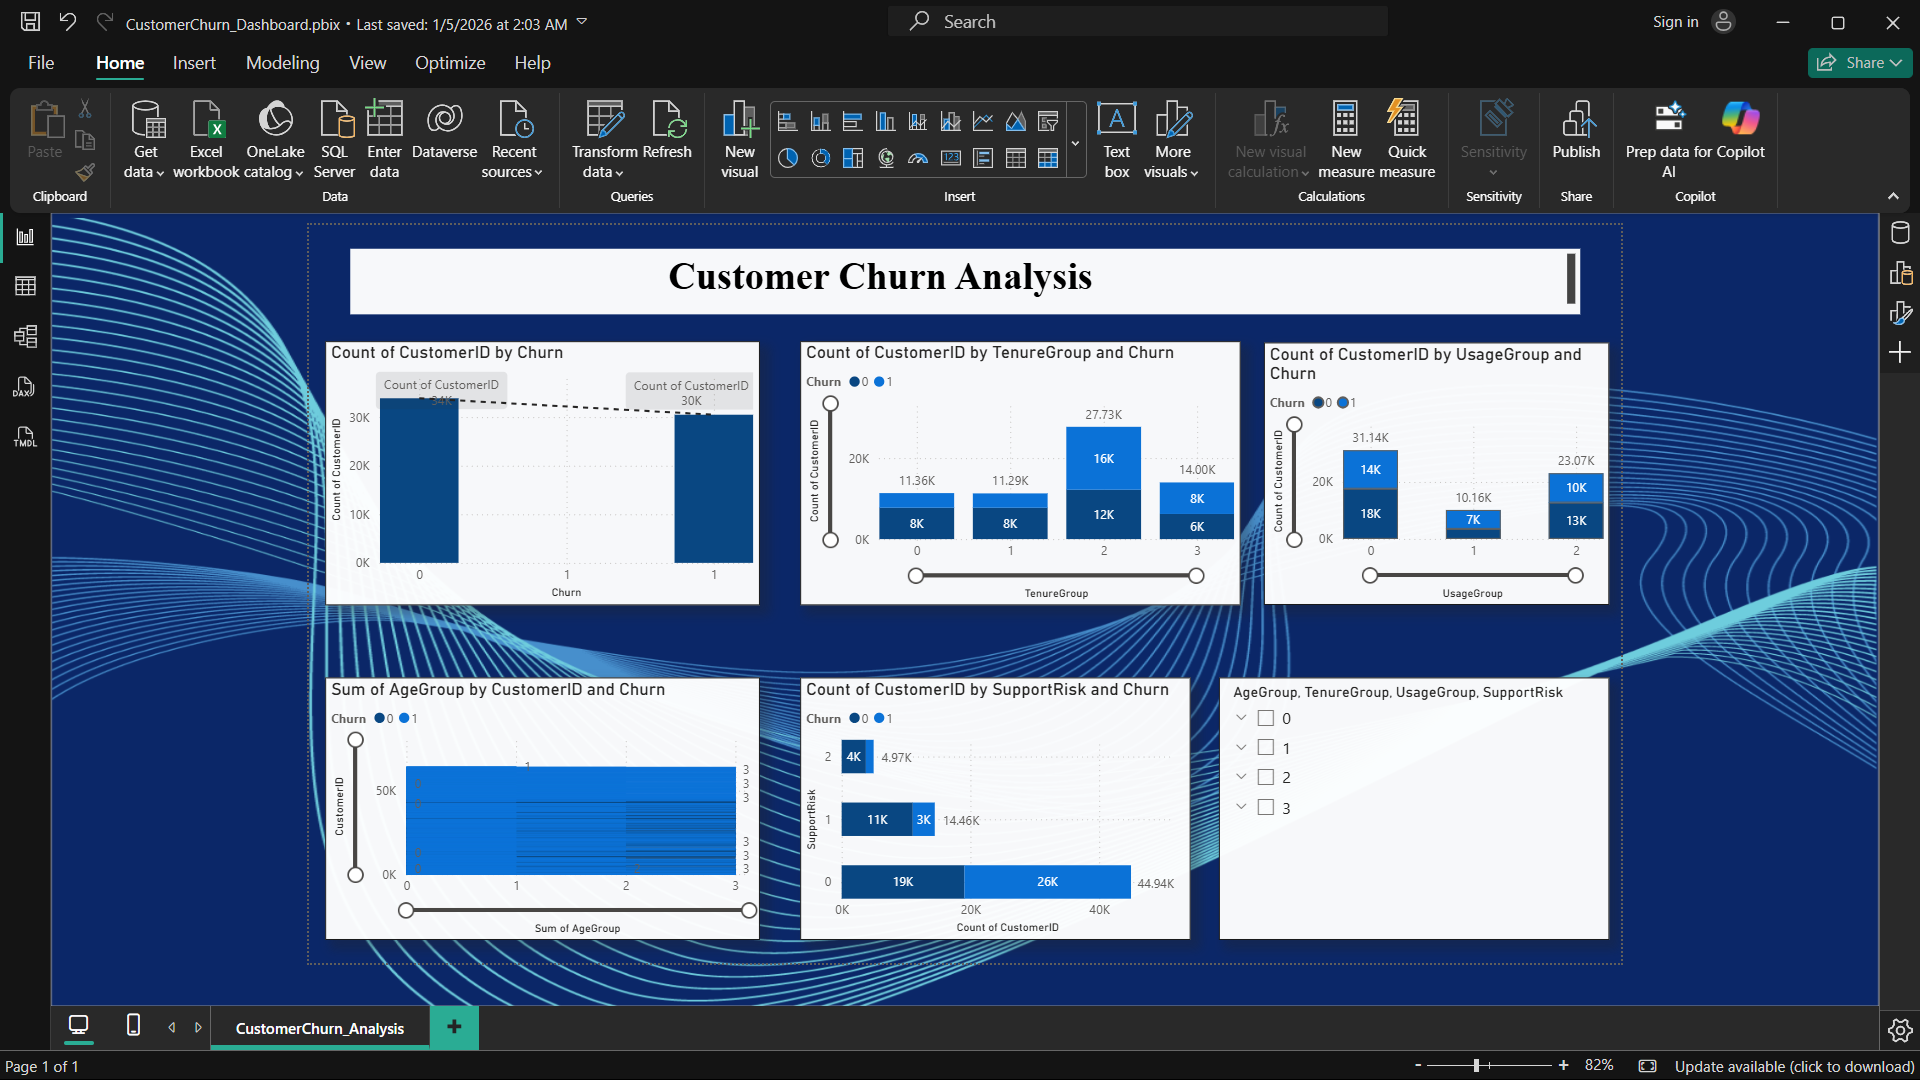

The page's visual inventory and layout, read from the dashboard file:
{"tool":"powerbi","page":{"name":"Page 1","canvas":[1280,720],"ordinal":0},"visuals":[{"type":"textbox","box":[39.8,22.8,1200.4,64],"z":0},{"type":"clusteredColumnChart","fields":{"Category":["Sheet1.Churn"],"Y":["CountNonNull(Sheet1.CustomerID)"]},"box":[15.6,113.8,423.8,257.4],"z":1},{"type":"clusteredBarChart","fields":{"Y":["Sum(Sheet1.AgeGroup)"],"Category":["Sheet1.CustomerID"],"Series":["Sheet1.Churn"]},"box":[15.6,440.9,423.8,256],"z":2},{"type":"columnChart","fields":{"Category":["Sheet1.TenureGroup"],"Y":["CountNonNull(Sheet1.CustomerID)"],"Series":["Sheet1.Churn"]},"box":[479.3,113.8,429.5,257.4],"z":3},{"type":"columnChart","fields":{"Category":["Sheet1.UsageGroup"],"Y":["CountNonNull(Sheet1.CustomerID)"],"Series":["Sheet1.Churn"]},"box":[931.6,115.2,337.1,256],"z":4},{"type":"barChart","fields":{"Category":["Sheet1.SupportRisk"],"Y":["CountNonNull(Sheet1.CustomerID)"],"Series":["Sheet1.Churn"]},"box":[479.3,440.9,381.2,256],"z":5},{"type":"slicer","fields":{"Values":["Sheet1.AgeGroup","Sheet1.TenureGroup","Sheet1.UsageGroup","Sheet1.SupportRisk"]},"box":[887.5,440.9,381.2,256],"z":6}]}

Visuals, with their boxes on the page's 1280x720 design canvas (x1, y1, x2, y2). These are canvas units, not pixel positions in the 1920x1080 screenshot, which may show the page scaled, cropped or inside an application window:
textbox: (left=40, top=23, right=1240, bottom=87)
clusteredColumnChart - Sheet1.Churn x CountNonNull(Sheet1.CustomerID): (left=16, top=114, right=439, bottom=371)
clusteredBarChart - Sum(Sheet1.AgeGroup) x Sheet1.CustomerID: (left=16, top=441, right=439, bottom=697)
columnChart - Sheet1.TenureGroup x CountNonNull(Sheet1.CustomerID): (left=479, top=114, right=909, bottom=371)
columnChart - Sheet1.UsageGroup x CountNonNull(Sheet1.CustomerID): (left=932, top=115, right=1269, bottom=371)
barChart - Sheet1.SupportRisk x CountNonNull(Sheet1.CustomerID): (left=479, top=441, right=860, bottom=697)
slicer - Sheet1.AgeGroup x Sheet1.TenureGroup: (left=888, top=441, right=1269, bottom=697)
